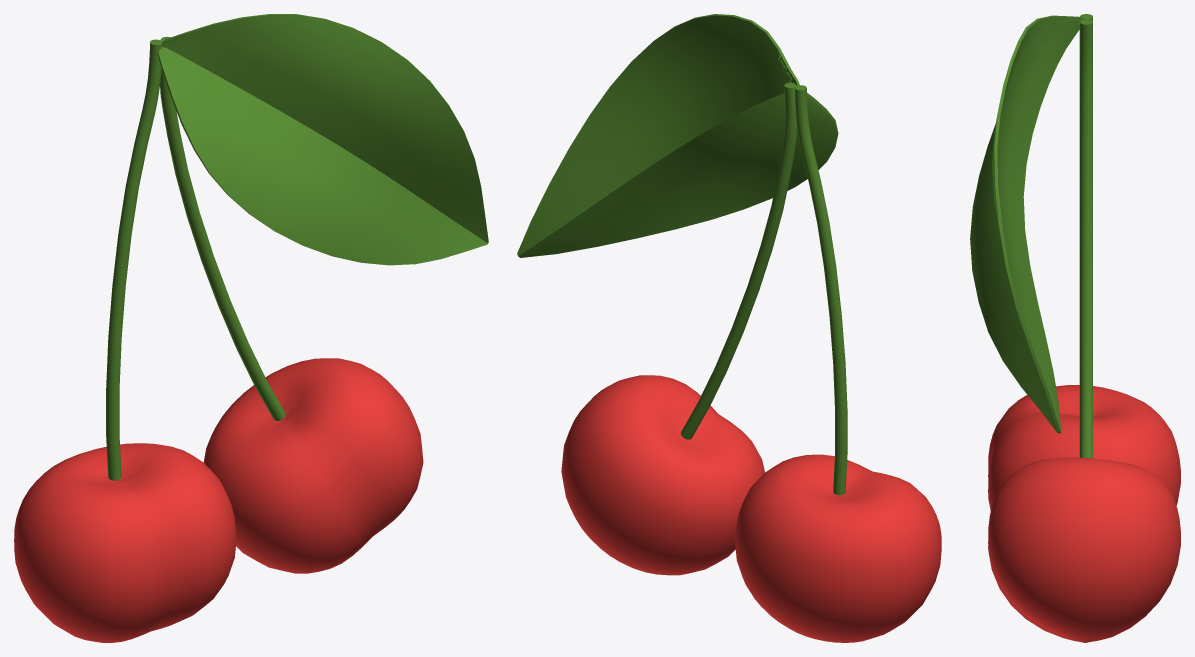
The model's file is cherries.glb.
3 renders of one model, left to right at view 1: azimuth 30°, elevation 25°; view 2: azimuth 150°, elevation 25°; view 3: azimuth 270°, elevation 25°, orthographic. The views are drawn at different scales.
Parts seen in each view (by area): view 1: Circle.041; view 2: Circle.041; view 3: Circle.041.
Boxes of the visible parts, box(x1,y1,x2,y2) form: Circle.041: box(14, 14, 488, 642); Circle.041: box(517, 14, 941, 642); Circle.041: box(970, 14, 1180, 642).
Bounding box in the file's own units: 1.81 × 2.34 × 0.743.
Materials: 1 (1 with a texture image).
